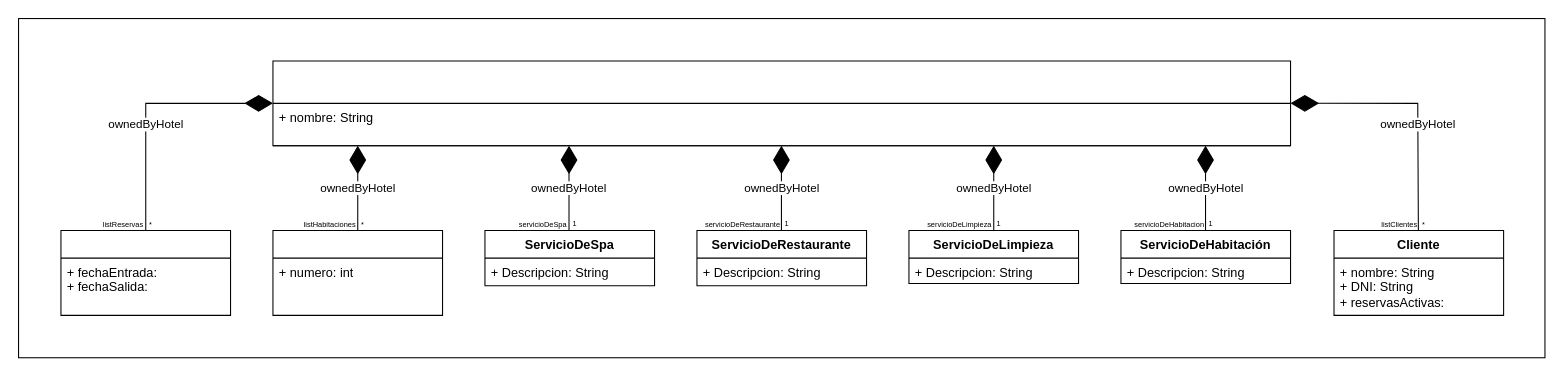
The diagram is 1563 pixels wide and 376 high, and some of its shapes have lost their labels. Each missing label, with the box of its shape:
Habitacion: (272, 229, 443, 315)
Hotel: (272, 60, 1291, 146)
Reserva: (60, 229, 231, 315)
